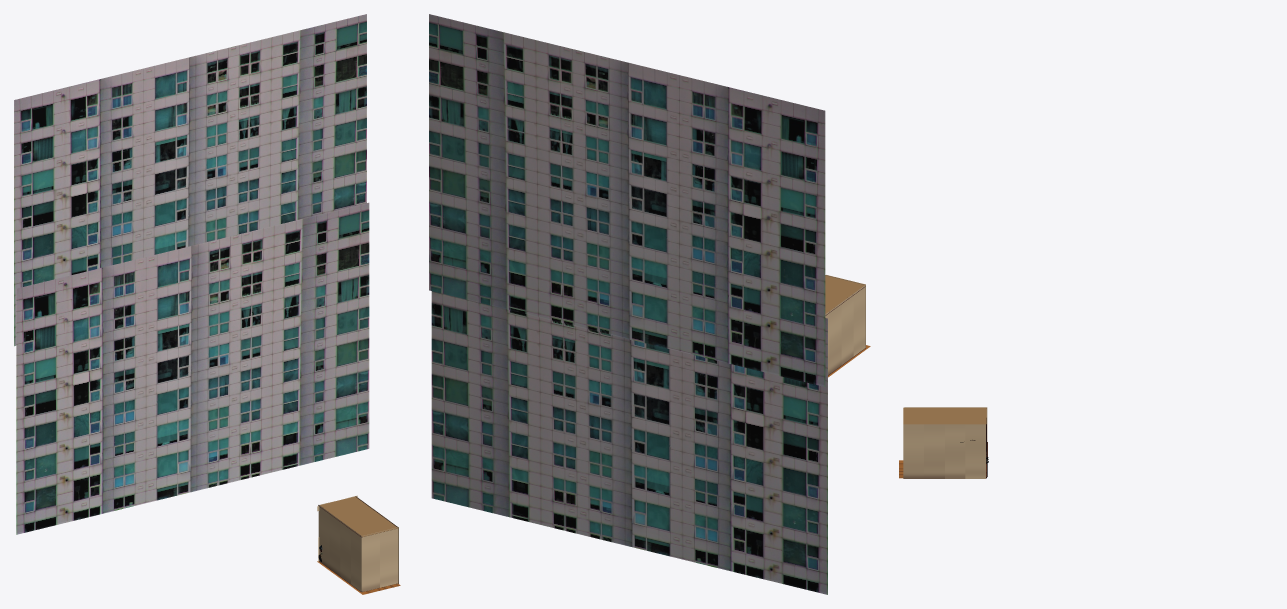
The model's file is Apartment.glb.
3 views of the same model, side by side, from view 1: azimuth 30°, elevation 25°; view 2: azimuth 150°, elevation 25°; view 3: azimuth 270°, elevation 25° (orthographic). The views are drawn at different scales.
Parts seen in each view (by area): view 1: skyscraper-6858092_960_720, skyscraper-6858092_960_720.001, Walls; view 2: skyscraper-6858092_960_720.001, skyscraper-6858092_960_720, Walls; view 3: Walls.
Part boxes in pixels (x1,y1,x2,y2): skyscraper-6858092_960_720: (16,202,369,534); skyscraper-6858092_960_720.001: (14,14,366,346); Walls: (317,495,400,594); skyscraper-6858092_960_720.001: (429,14,825,386); skyscraper-6858092_960_720: (431,291,827,594); Walls: (825,275,870,377); Walls: (899,407,988,478).
Bounding box in the file's own units: 9.6 × 11.26 × 9.18.
Materials: 2 (1 with a texture image).
